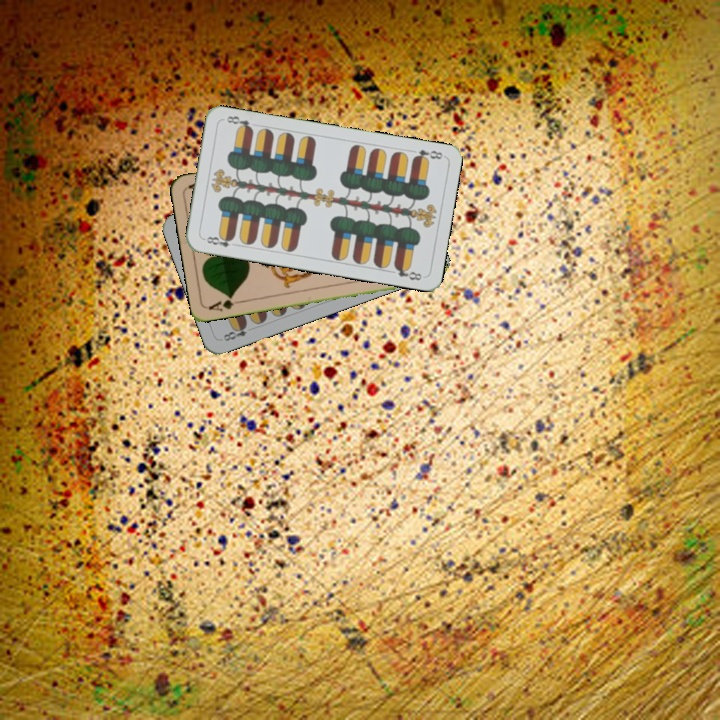E8: (219, 320, 250, 344), (200, 231, 236, 250), (409, 145, 445, 164)
GA: (205, 292, 245, 314)
